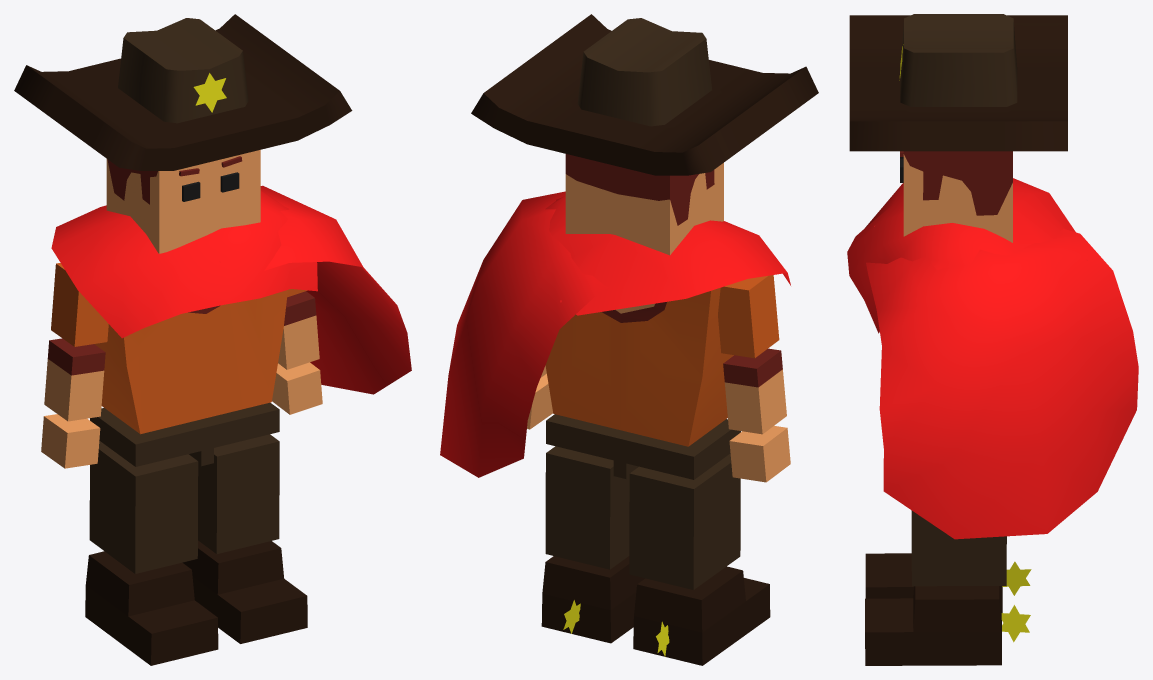
The model's file is player_idel.FBX.
3 views of the same model, side by side, from view 1: azimuth 30°, elevation 25°; view 2: azimuth 150°, elevation 25°; view 3: azimuth 270°, elevation 25° (orthographic). The views are drawn at different scales.
Parts seen in each view (by area): view 1: Box002, Object005, Object004; view 2: Box002, Object005, Object004; view 3: Box002, Object004, Object005.
Boxes of the visible parts, x1=… form: Box002: x1=14, y1=14, x2=411, y2=468; Object005: x1=85, y1=441, x2=218, y2=665; Object004: x1=182, y1=434, x2=307, y2=643; Box002: x1=440, y1=14, x2=818, y2=482; Object005: x1=629, y1=453, x2=770, y2=665; Object004: x1=541, y1=446, x2=644, y2=643; Box002: x1=847, y1=14, x2=1138, y2=539; Object004: x1=865, y1=510, x2=1030, y2=665; Object005: x1=865, y1=536, x2=1031, y2=612.
Size of the model in its own units: 53.25 by 89.95 by 40.12.
